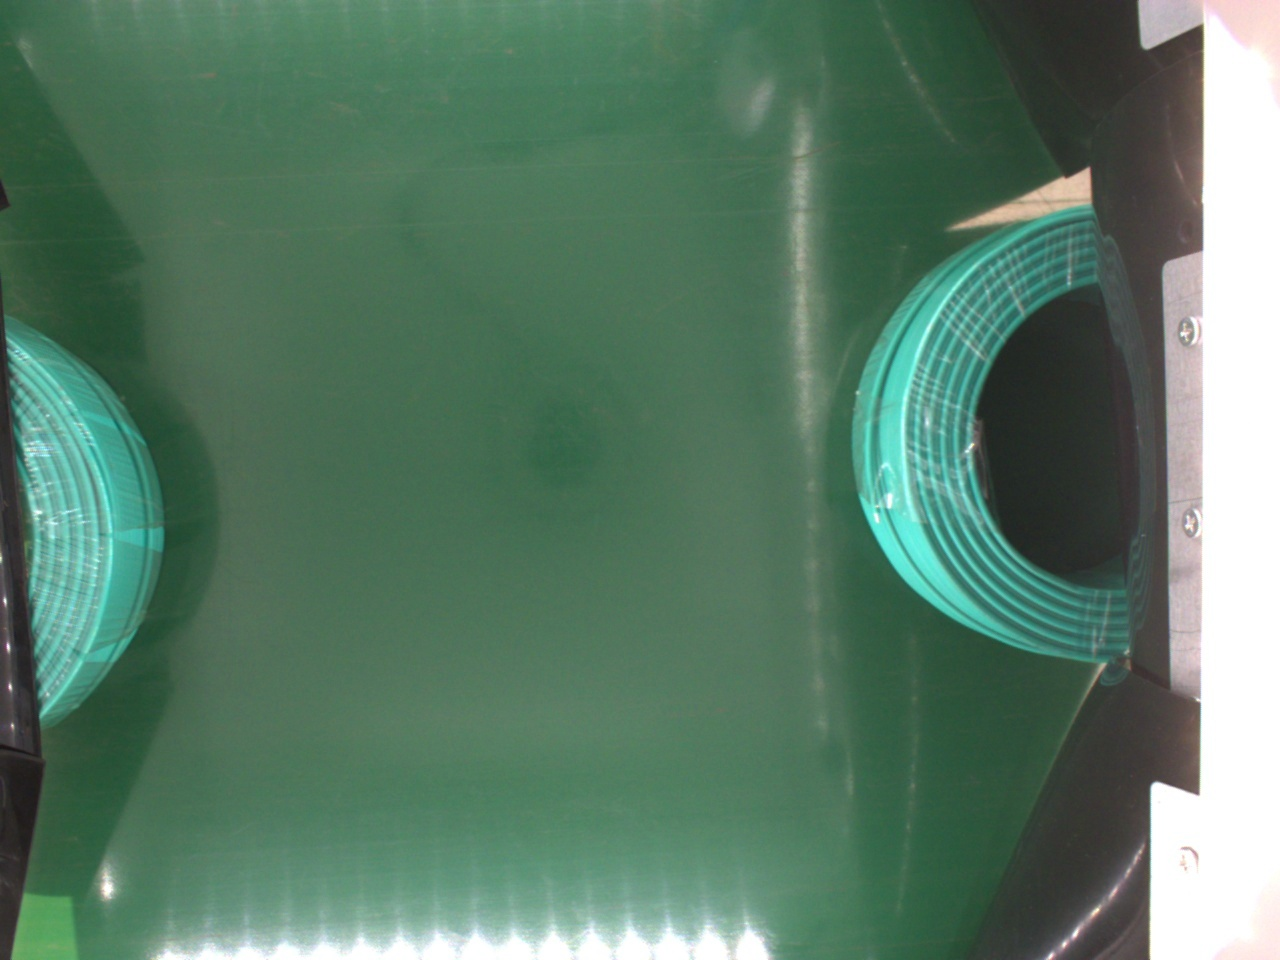green: (847, 202, 1129, 672), (1, 316, 163, 720)
